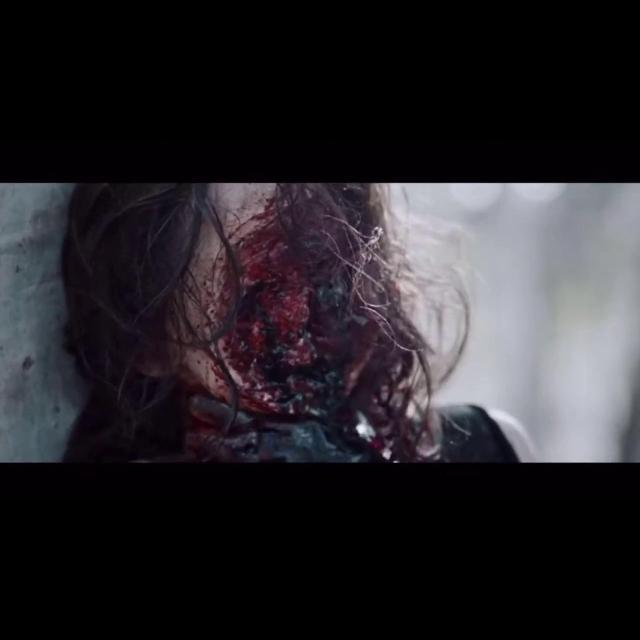blood: (187, 198, 350, 415)
